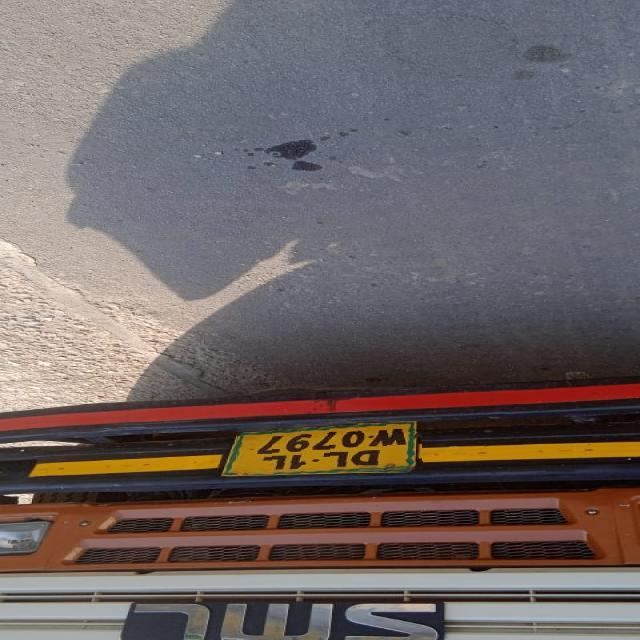License-plate: (237, 423, 422, 474)
